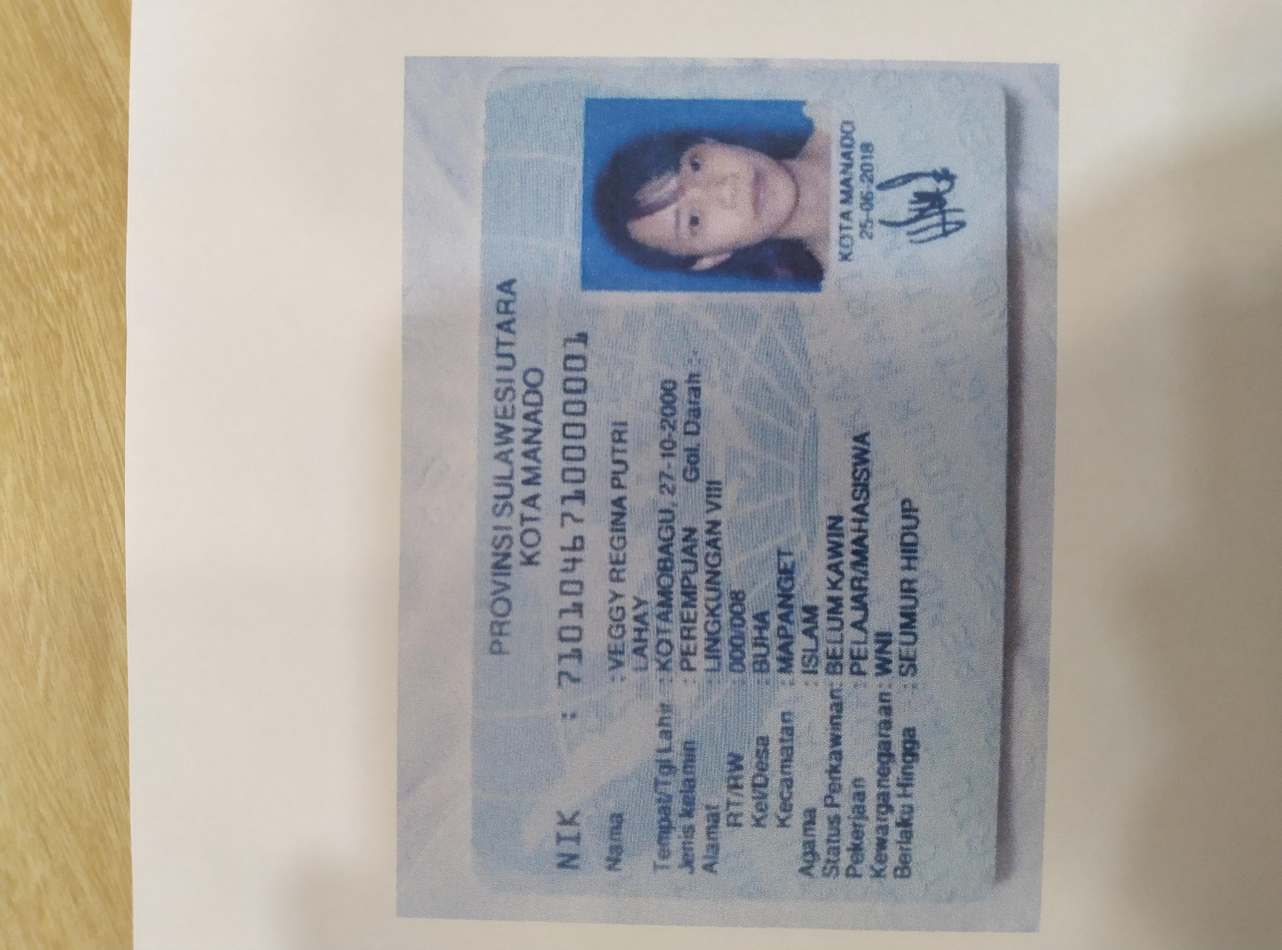ID-card: (68, 353, 1173, 743)
